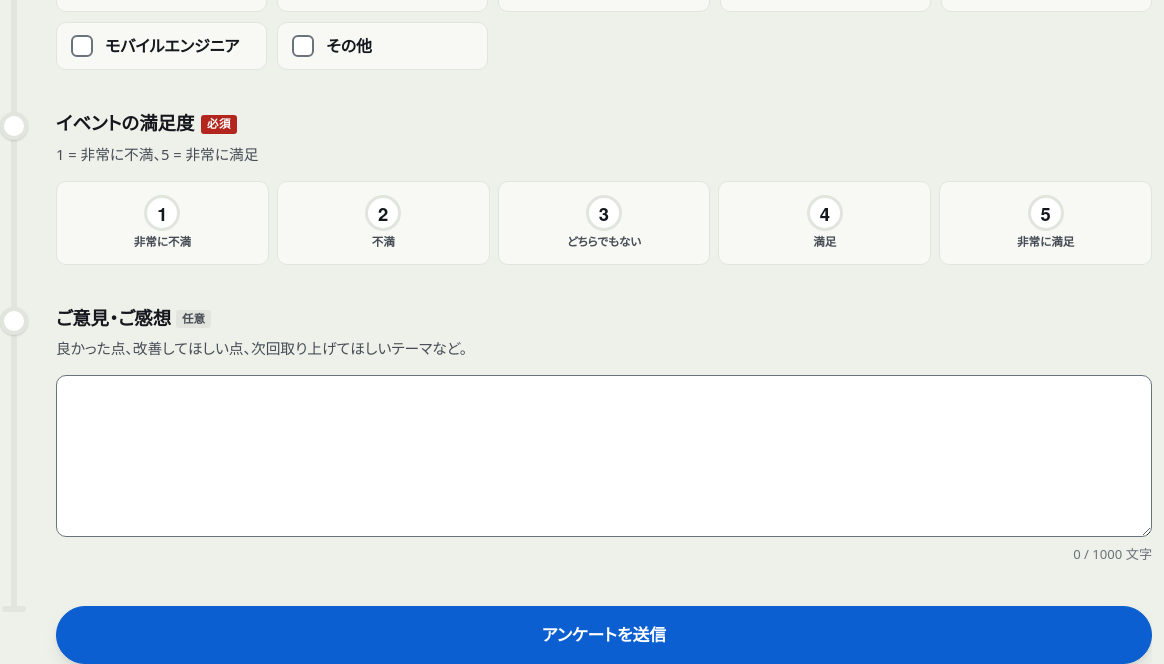
Scenario: SurveyForm › 未入力で送信すると検証エラーを表示し API を呼ばない
The width and height of the screenshot is (1164, 664).
(page scrolled)
Click the button "アンケートを送信": (604, 635) x1=56 y1=606 x2=1152 y2=663
(page scrolled)
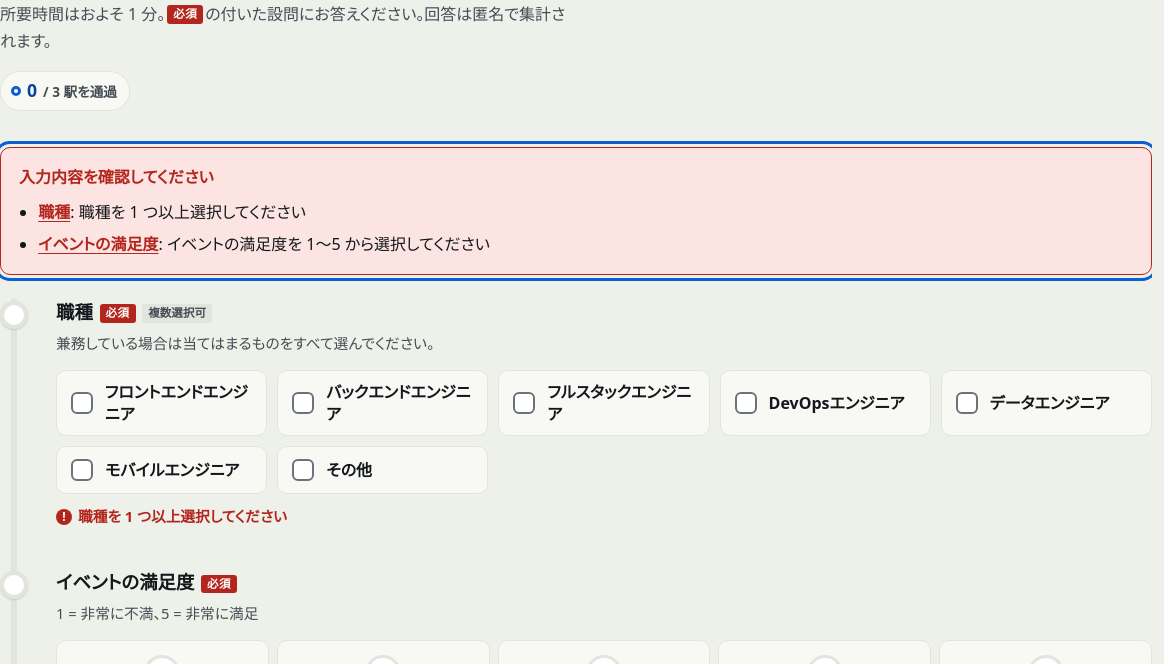
Expected: the message shows "職種を 1 つ以上選択してください", x1=79 y1=202 x2=306 y2=224
Expected: the message shows "イベントの満足度を 1〜5 から選択してください", x1=167 y1=233 x2=490 y2=255
